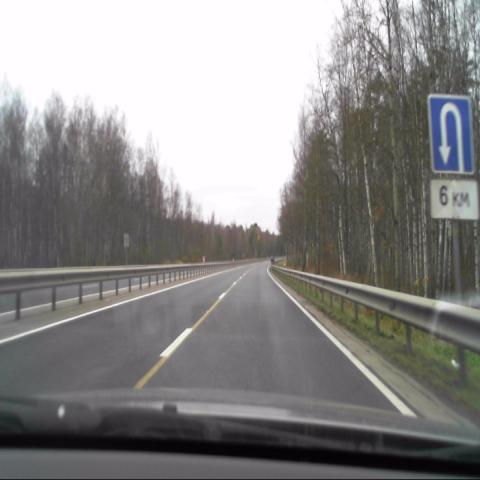6_3_1: (427, 94, 476, 177)
